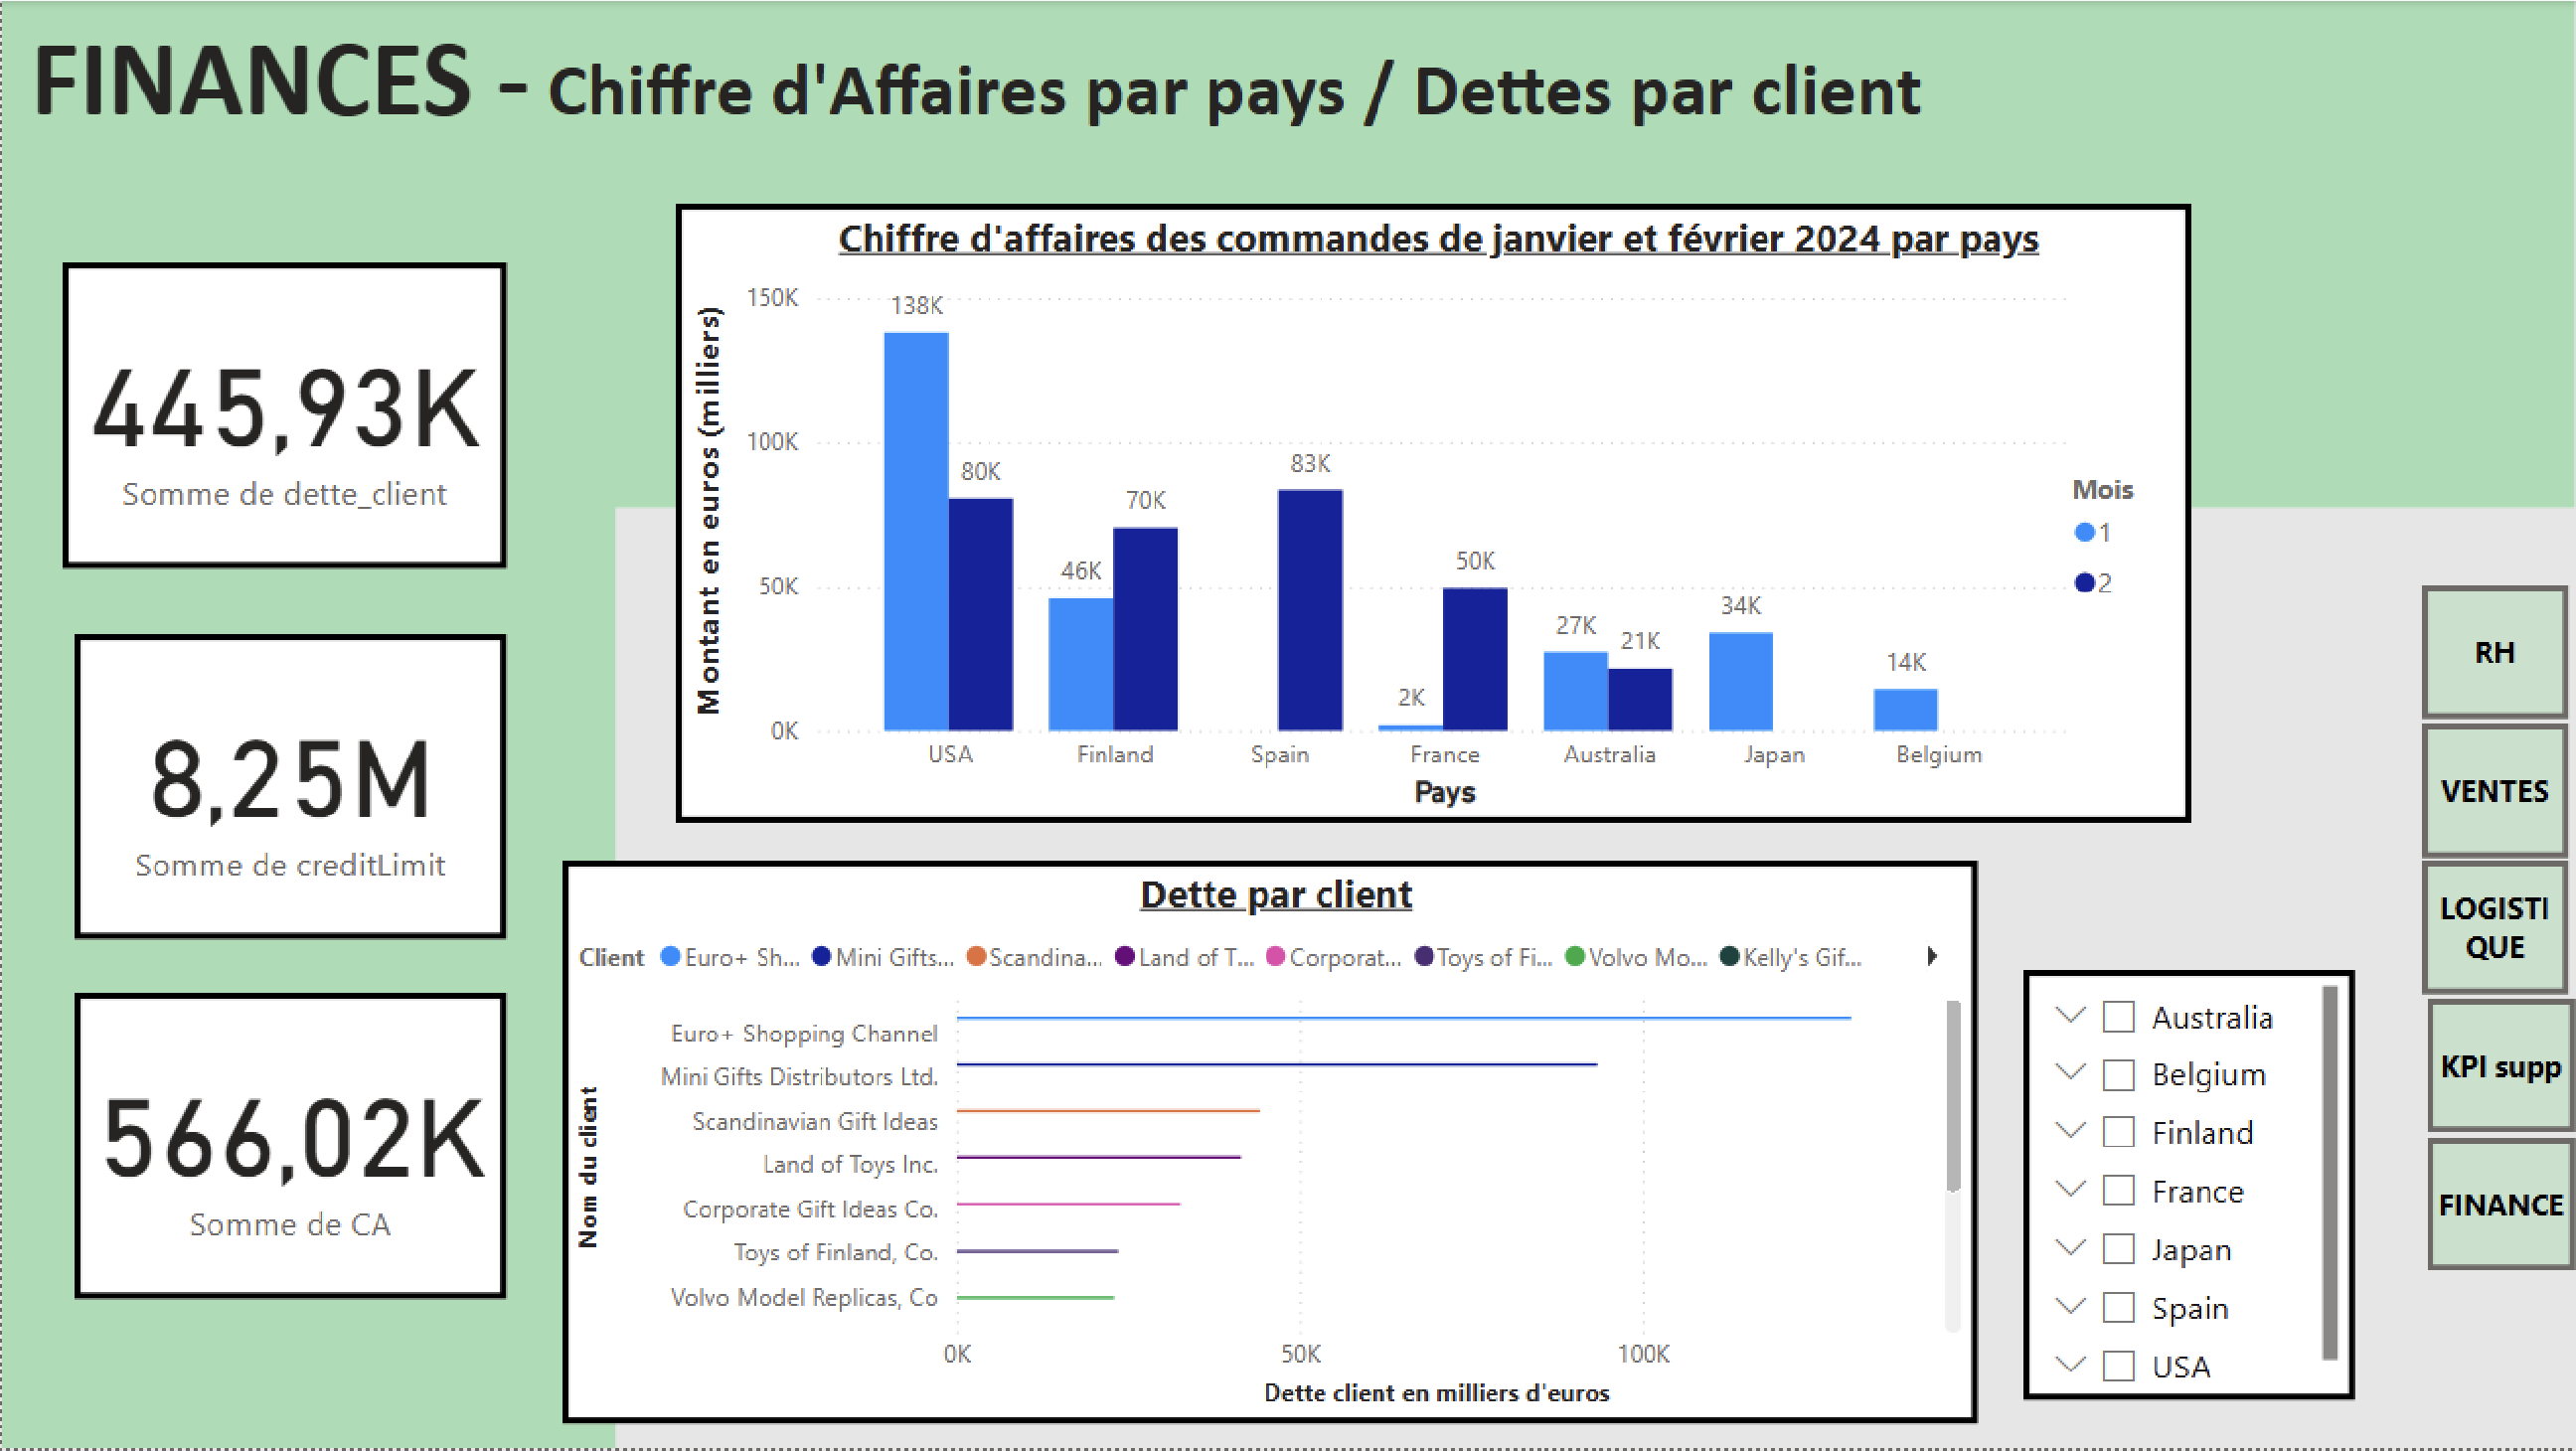

Layout of this report page (visuals, bound fields, positions):
{"tool":"powerbi","page":{"name":"FINANCES","canvas":[1280,720],"ordinal":3},"visuals":[{"type":"actionButton","title":"VENTES","box":[1204.2,290.4,73.3,66.8],"z":0},{"type":"actionButton","title":"VENTES","box":[1204.2,363.3,73.3,66.8],"z":1000},{"type":"actionButton","title":"VENTES","box":[1204.2,436.1,73.3,66.8],"z":2000},{"type":"actionButton","title":"VENTES","box":[1205.5,508.9,73.3,66.8],"z":3000}]}

Visuals, with their boxes in screenshot pixels (x1, y1, x2, y2), scaled from the page's 1280x720 canvas onto the 2576x1451 screenshot:
"VENTES" actionButton: box=[2424, 585, 2571, 720]
"VENTES" actionButton: box=[2424, 732, 2571, 867]
"VENTES" actionButton: box=[2424, 879, 2571, 1014]
"VENTES" actionButton: box=[2426, 1026, 2574, 1160]
